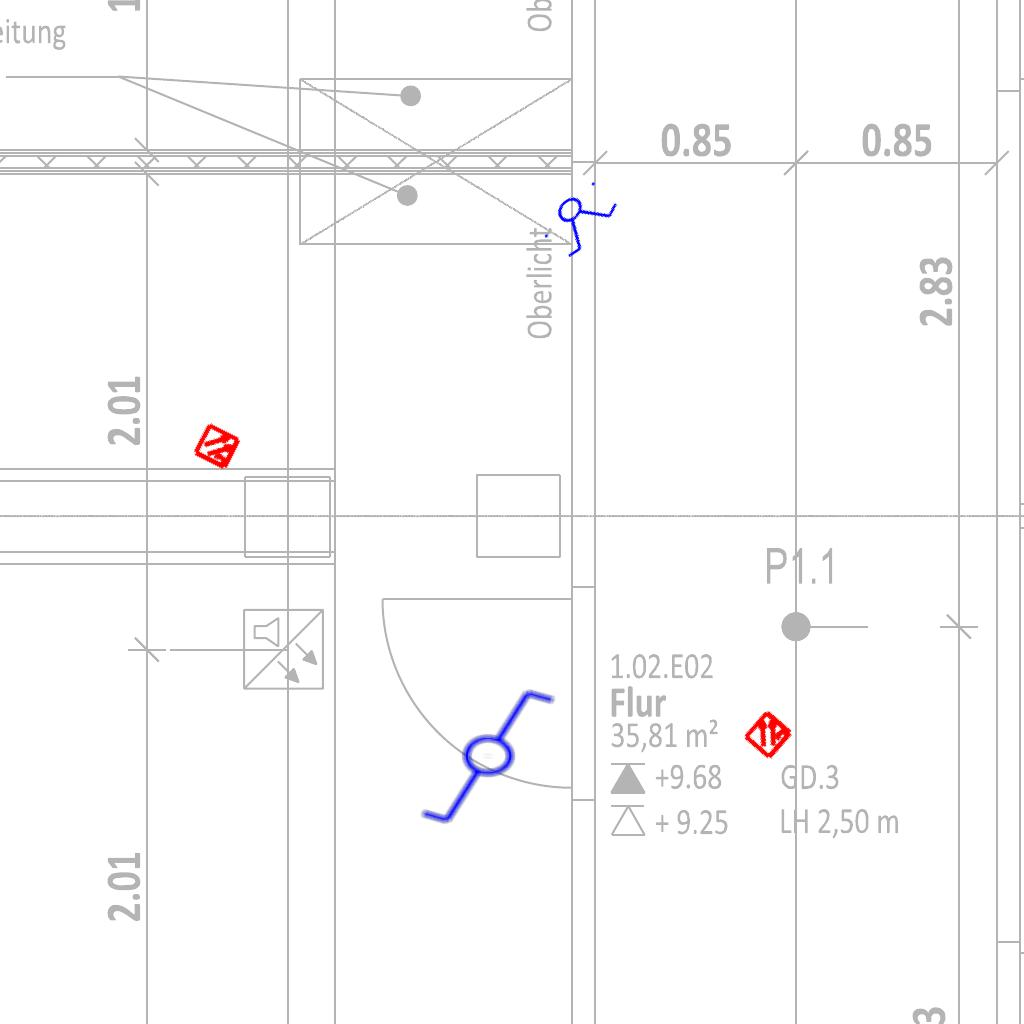OT_Multisensormelder_(Kombination_RMO_WMD): (729, 694, 809, 774), (180, 409, 256, 485)
Serienschalter: (534, 170, 626, 266)
Wechselschalter: (418, 686, 575, 830)
